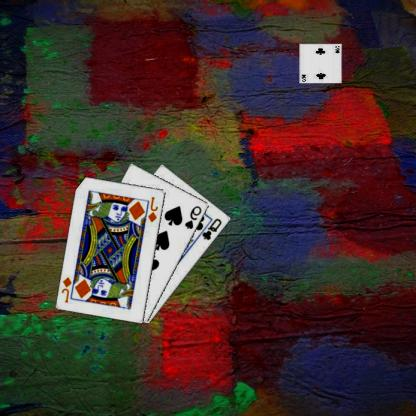9S: (184, 203, 204, 230)
JD: (148, 194, 162, 224), (61, 274, 75, 303)
QC: (201, 216, 225, 241)
